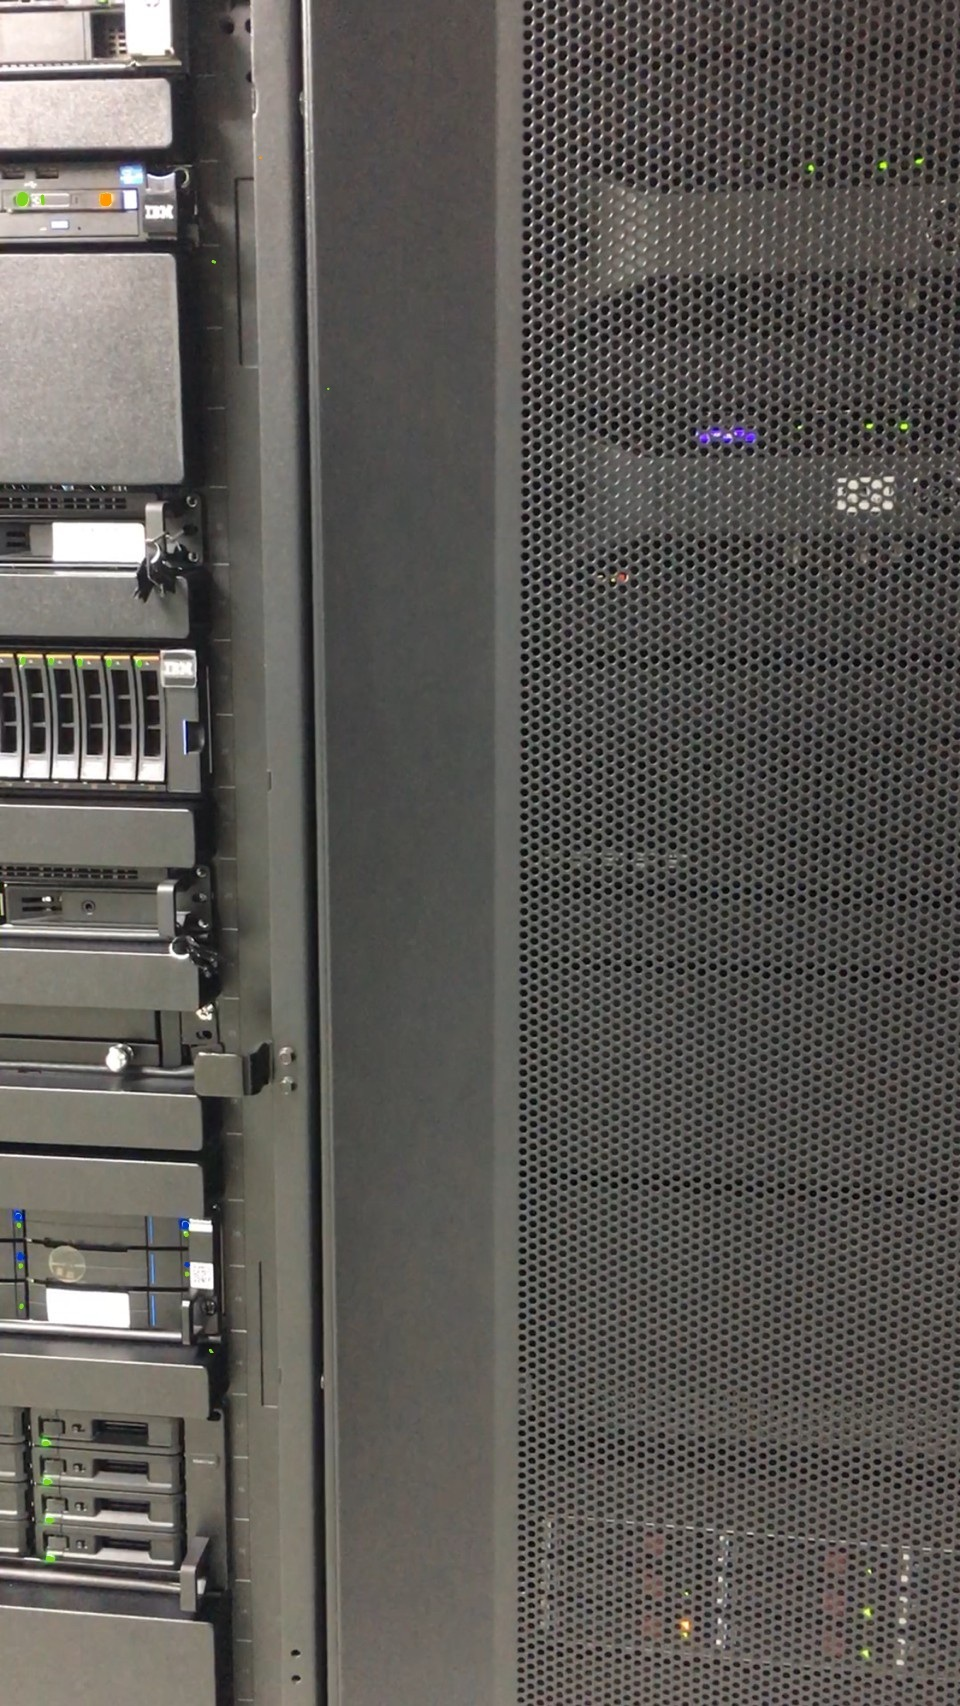HDDtraffic_one: (32, 192, 72, 207)
